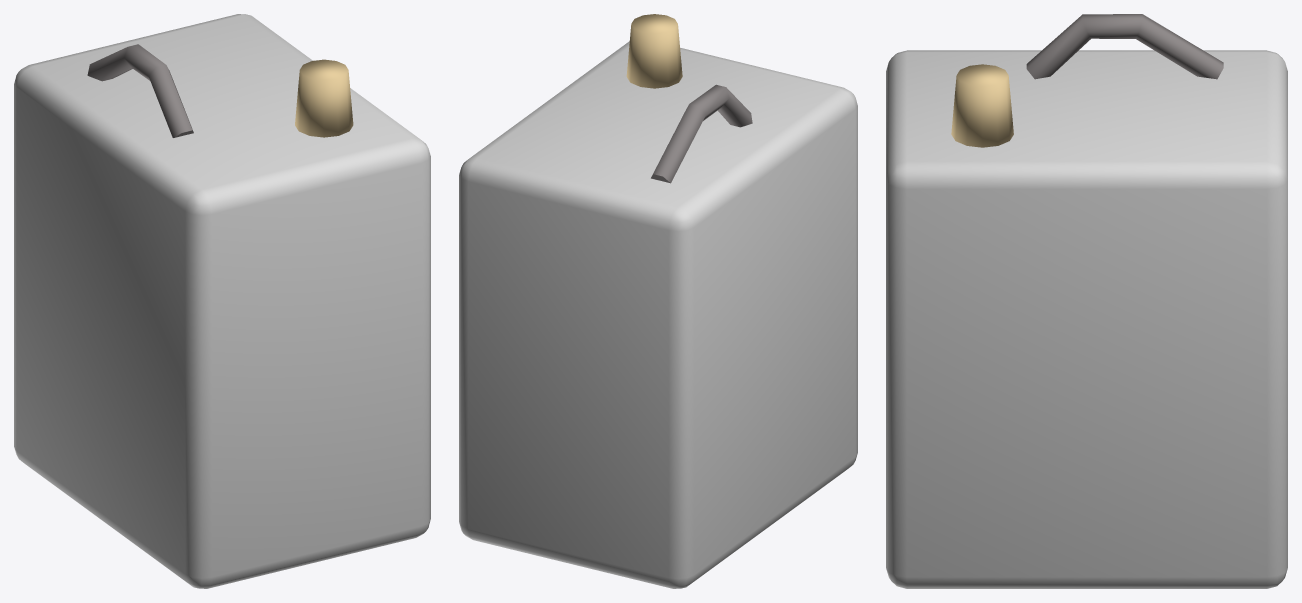
Rendered from oil_tin.glb.
The picture shows the model from 3 angles, left to right: view 1: azimuth 30°, elevation 25°; view 2: azimuth 150°, elevation 25°; view 3: azimuth 270°, elevation 25°; orthographic projection. The views are drawn at different scales.
Visible parts, largest first — view 1: oil_tin_tin, oil_tin_spout, oil_tin_grip; view 2: oil_tin_tin, oil_tin_spout, oil_tin_grip; view 3: oil_tin_tin, oil_tin_grip, oil_tin_spout.
Part boxes in pixels (bbox=[...]): oil_tin_tin: bbox=[14, 14, 430, 588]; oil_tin_spout: bbox=[295, 59, 353, 137]; oil_tin_grip: bbox=[87, 44, 193, 137]; oil_tin_tin: bbox=[459, 41, 857, 588]; oil_tin_spout: bbox=[626, 14, 682, 88]; oil_tin_grip: bbox=[651, 84, 752, 183]; oil_tin_tin: bbox=[886, 50, 1287, 588]; oil_tin_grip: bbox=[1026, 14, 1223, 79]; oil_tin_spout: bbox=[951, 64, 1013, 147].
Size of the model in its own units: 0.115 by 0.205 by 0.154.
